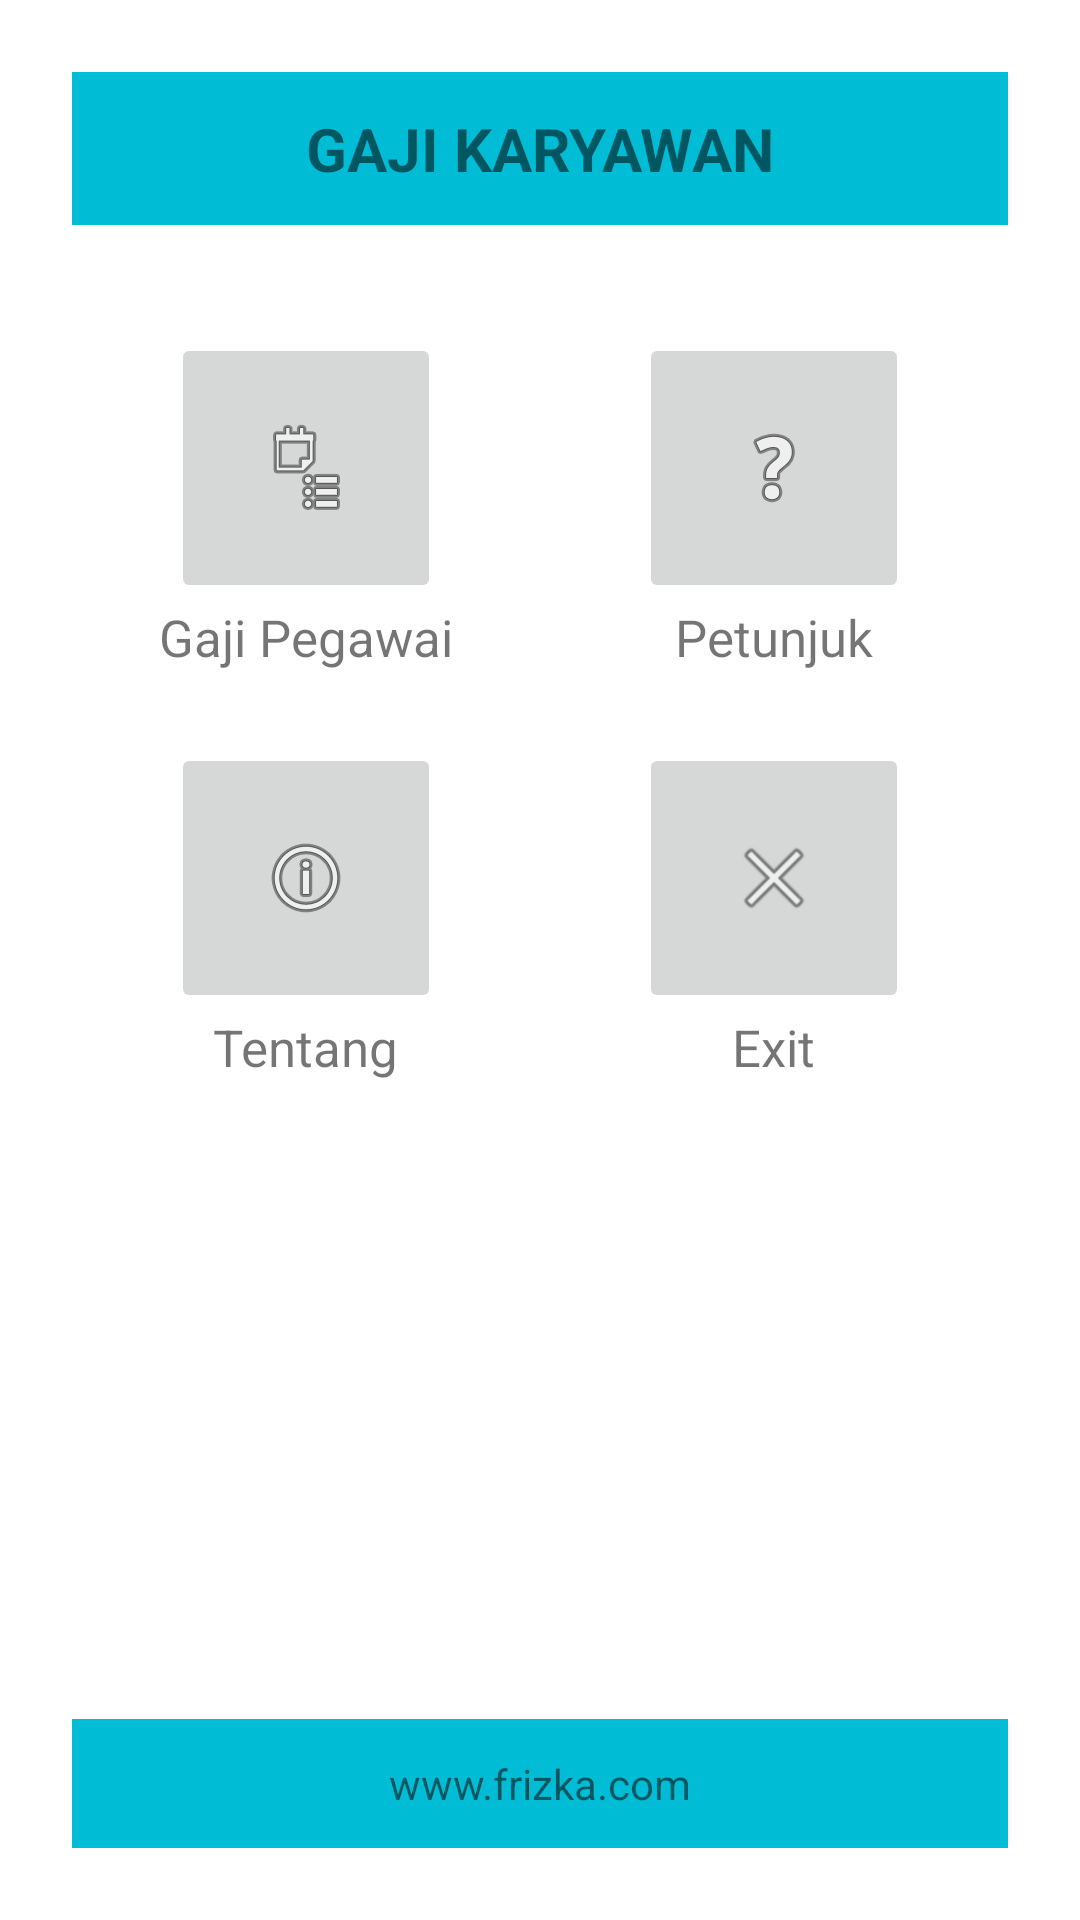

Icon bounding boxes for this 1080px x 1920px phone screenshot, format box(x1, y1, x2, y2):
agenda: box(183, 351, 429, 585)
info details: box(183, 761, 429, 995)
